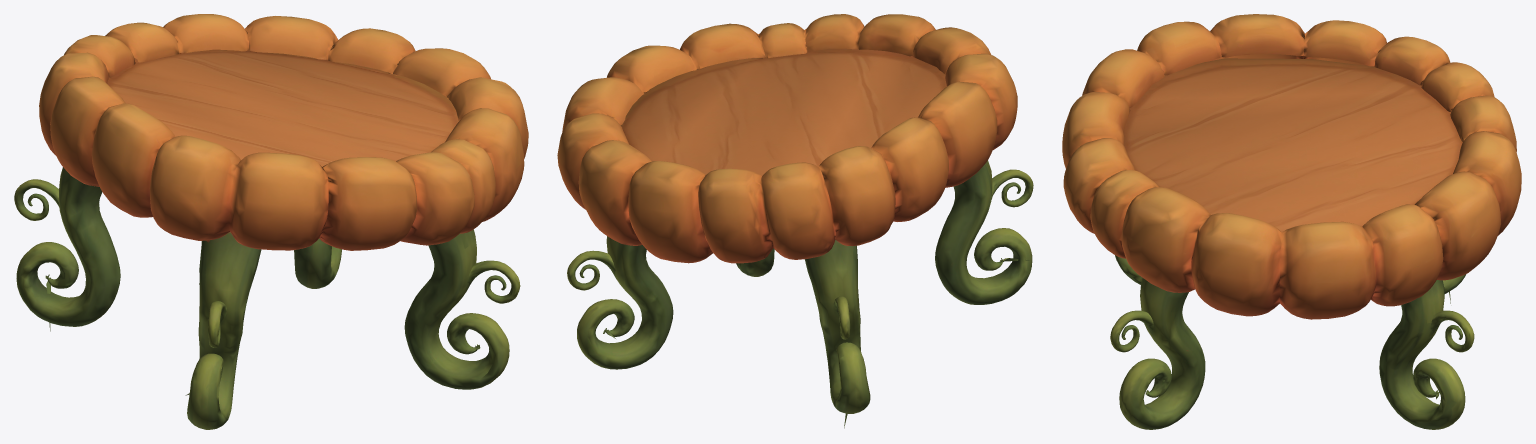
Rendered from S1_PumpkinTable_LOD0.fbx.
The picture shows the model from 3 angles, left to right: view 1: azimuth 30°, elevation 25°; view 2: azimuth 150°, elevation 25°; view 3: azimuth 270°, elevation 25°; orthographic projection. The views are drawn at different scales.
Parts seen in each view (by area): view 1: S1_PumpkinTable_LOD0; view 2: S1_PumpkinTable_LOD0; view 3: S1_PumpkinTable_LOD0.
Boxes of the visible parts, x1=… form: S1_PumpkinTable_LOD0: x1=14, y1=14, x2=528, y2=429; S1_PumpkinTable_LOD0: x1=557, y1=14, x2=1033, y2=428; S1_PumpkinTable_LOD0: x1=1062, y1=14, x2=1521, y2=429.
Bounding box in the file's own units: 1.06 × 0.74 × 1.09.
Materials: 1 (1 with a texture image).
